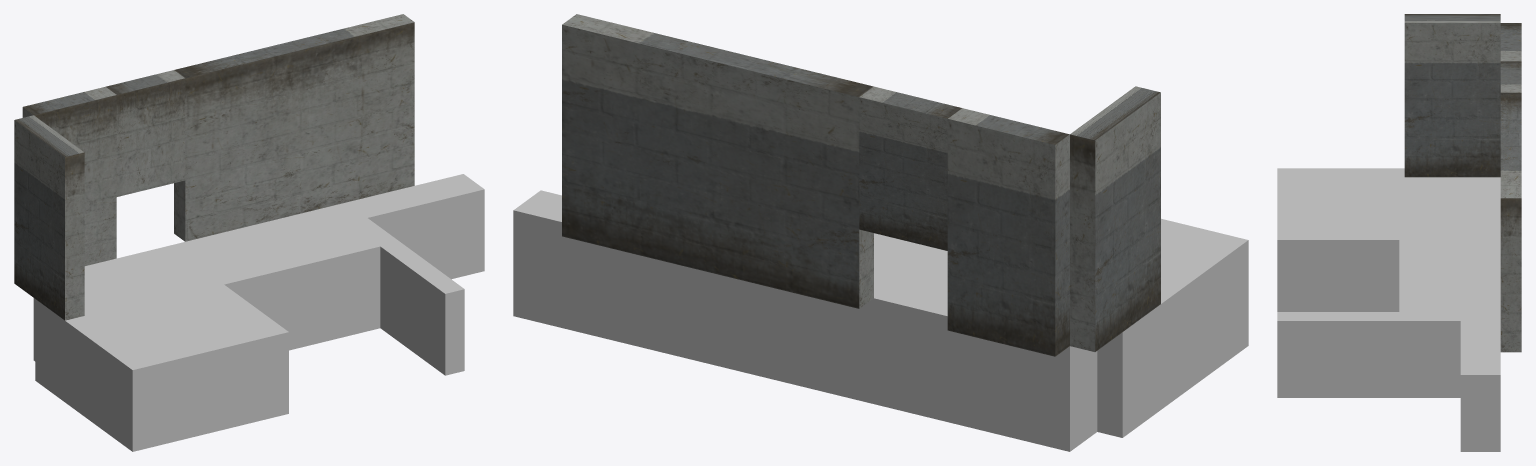
File: laye.fbx
3 views of the same model, side by side, from view 1: azimuth 30°, elevation 25°; view 2: azimuth 150°, elevation 25°; view 3: azimuth 270°, elevation 25° (orthographic). The views are drawn at different scales.
Parts seen in each view (by area): view 1: mesh_10, mesh_3, mesh_4, mesh_557, mesh_53, mesh_555, mesh_11, mesh_12; view 2: mesh_10, mesh_4, mesh_12, mesh_53, mesh_3, mesh_11, mesh_557; view 3: mesh_3, mesh_53, mesh_555, mesh_4, mesh_10, mesh_557, mesh_12, mesh_11.
Part boxes in pixels (bbox=[...]): mesh_10: bbox=[174, 14, 414, 241]; mesh_3: bbox=[35, 261, 288, 451]; mesh_4: bbox=[33, 174, 484, 361]; mesh_557: bbox=[192, 223, 380, 350]; mesh_53: bbox=[14, 115, 84, 320]; mesh_555: bbox=[348, 218, 464, 375]; mesh_11: bbox=[106, 70, 185, 196]; mesh_12: bbox=[22, 86, 116, 265]; mesh_10: bbox=[562, 14, 873, 308]; mesh_4: bbox=[513, 190, 1097, 451]; mesh_12: bbox=[947, 108, 1069, 356]; mesh_53: bbox=[1070, 86, 1160, 351]; mesh_3: bbox=[920, 218, 1248, 437]; mesh_11: bbox=[859, 86, 961, 250]; mesh_557: bbox=[874, 233, 947, 282]; mesh_3: bbox=[1277, 168, 1460, 311]; mesh_53: bbox=[1404, 14, 1500, 177]; mesh_555: bbox=[1277, 312, 1460, 397]; mesh_4: bbox=[1460, 177, 1500, 451]; mesh_10: bbox=[1500, 92, 1521, 352]; mesh_557: bbox=[1399, 240, 1460, 311]; mesh_12: bbox=[1500, 23, 1521, 61]; mesh_11: bbox=[1500, 61, 1521, 92].
Size of the model in its own units: 368 by 192 by 184.
